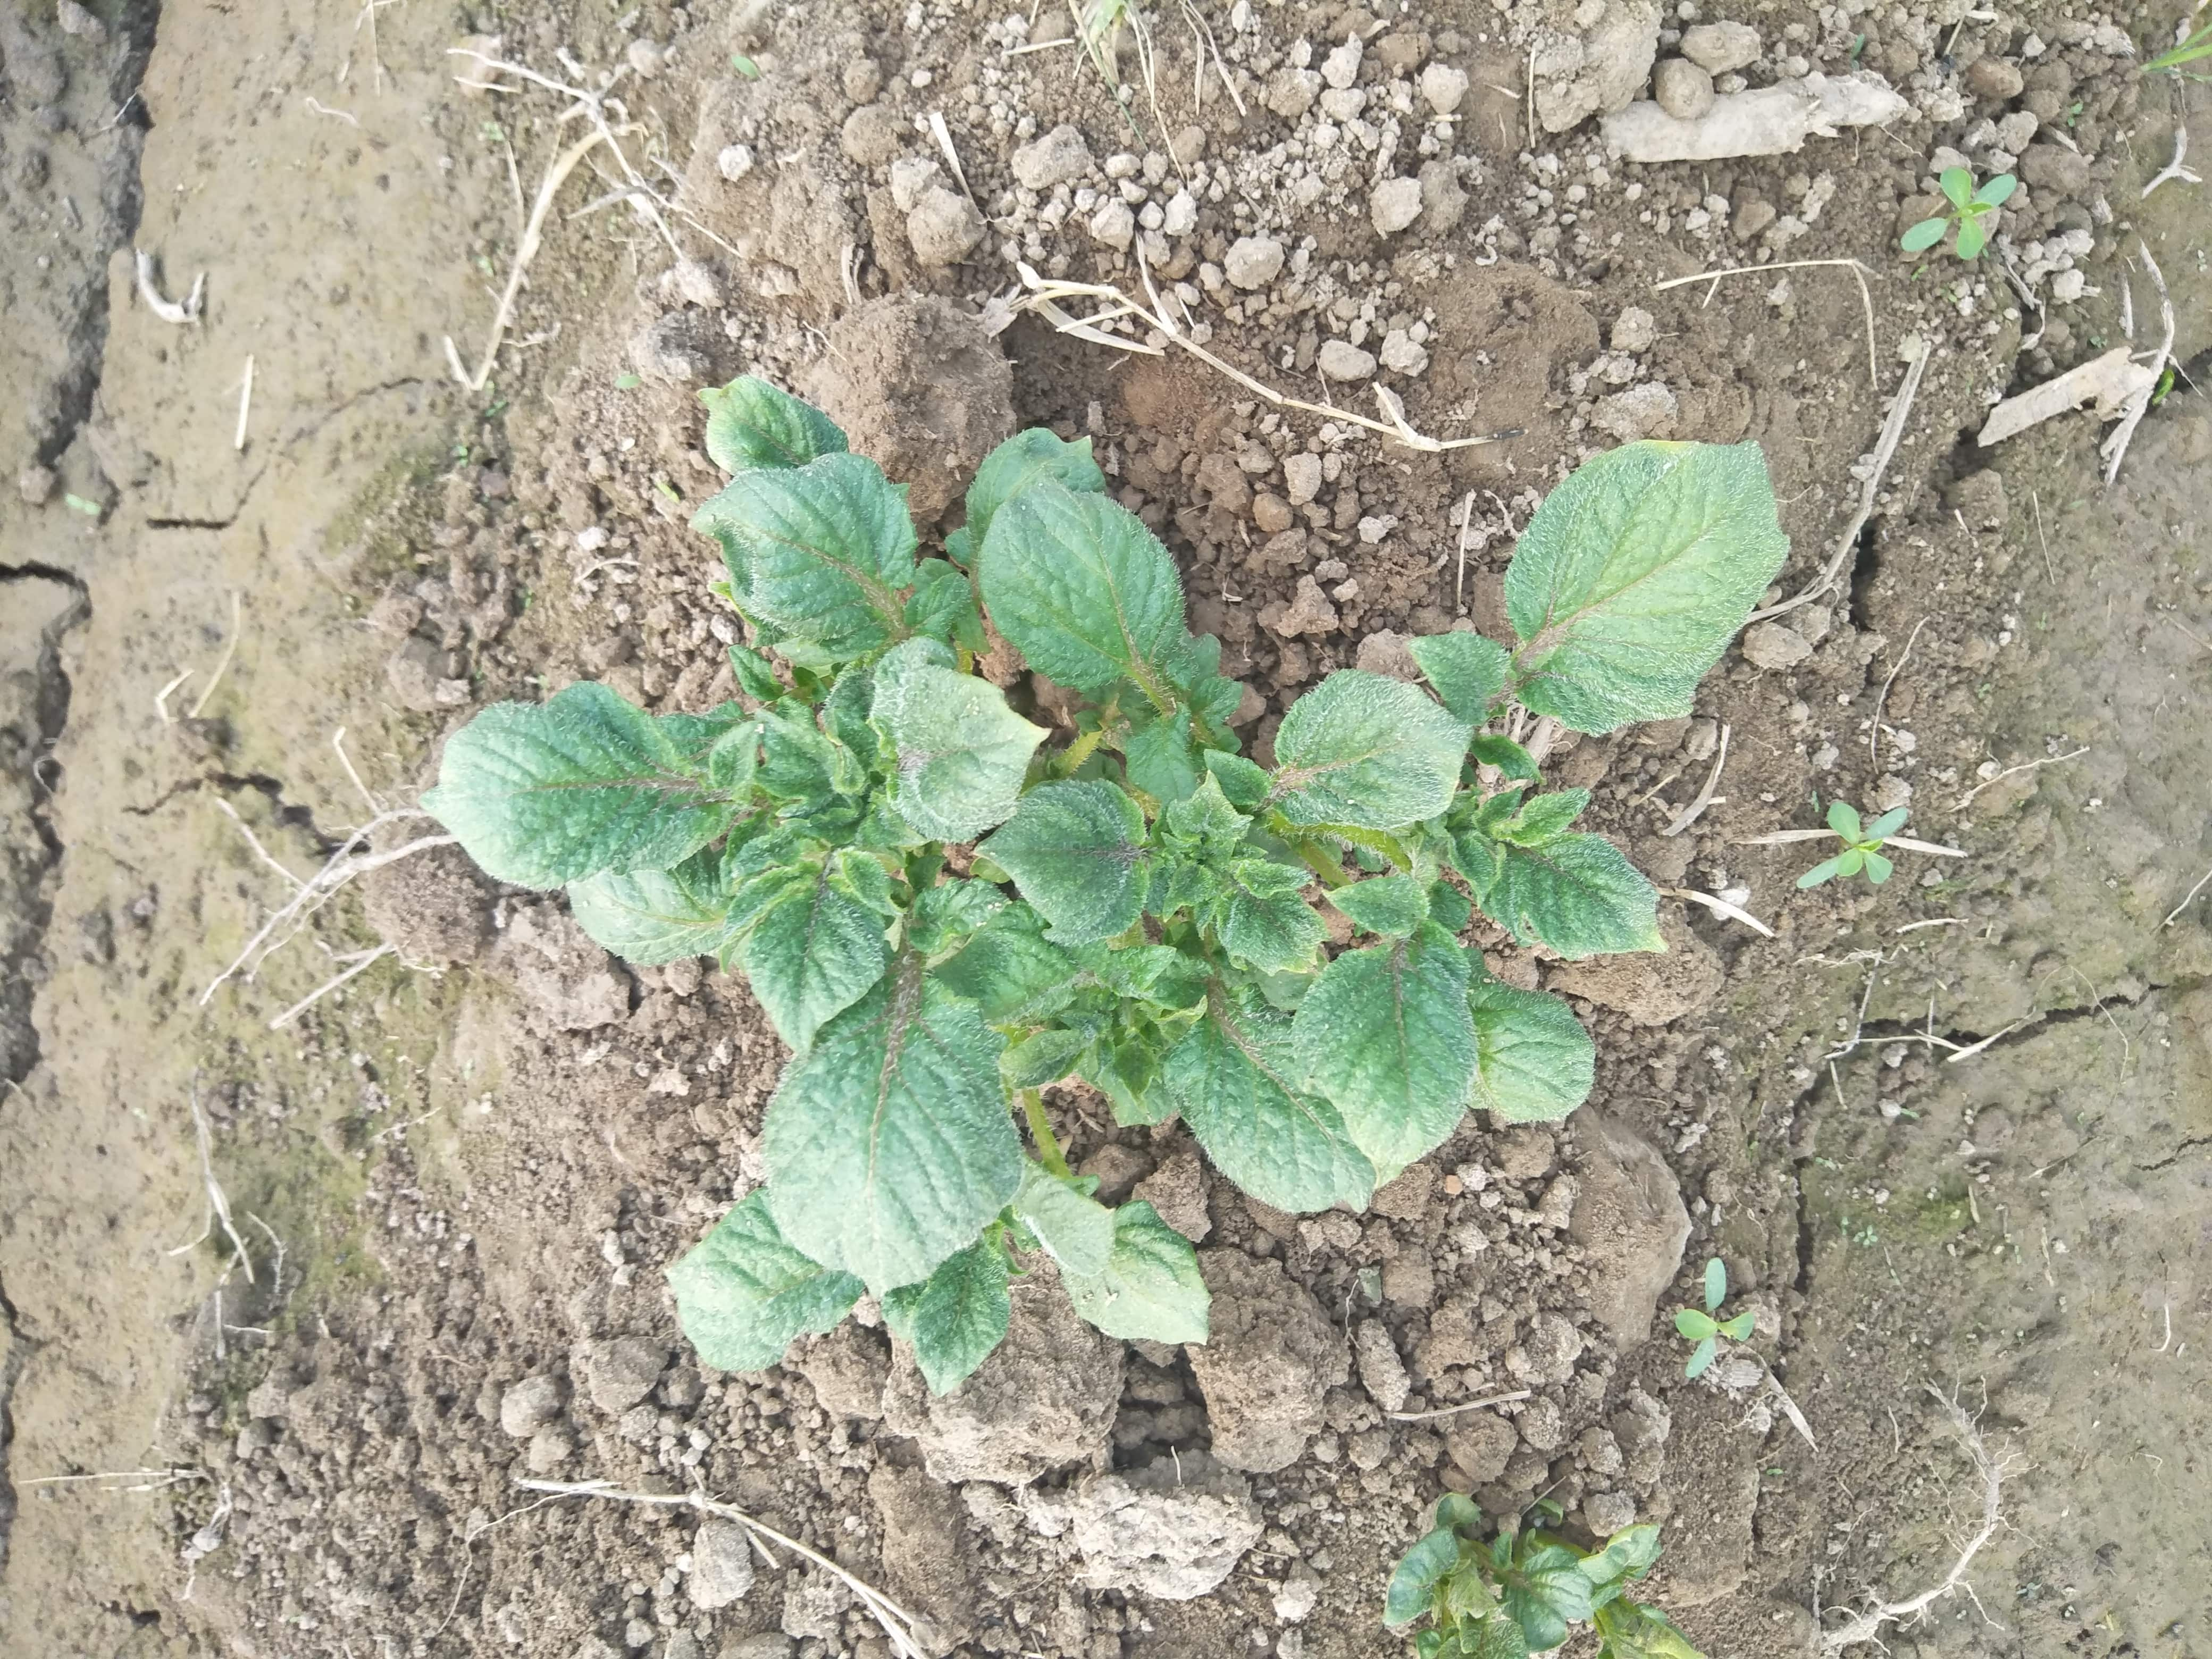daun: (1508, 450, 1784, 713), (763, 995, 1010, 1283), (1172, 978, 1400, 1213), (446, 690, 712, 877), (705, 460, 932, 641), (1298, 936, 1474, 1166), (723, 823, 892, 1058), (989, 490, 1183, 688), (671, 1183, 855, 1368), (1278, 674, 1460, 826), (977, 774, 1153, 915), (892, 674, 1050, 829), (1503, 829, 1665, 955), (1059, 1220, 1216, 1345), (1482, 992, 1588, 1121), (918, 1236, 1007, 1387), (927, 939, 1080, 1021), (571, 878, 712, 962), (738, 720, 862, 803), (697, 387, 848, 453), (1407, 641, 1522, 713), (1165, 767, 1245, 849), (1096, 1009, 1162, 1096), (1331, 873, 1433, 929), (1508, 781, 1588, 852), (730, 641, 799, 720), (1212, 845, 1318, 896), (1444, 819, 1496, 908)
